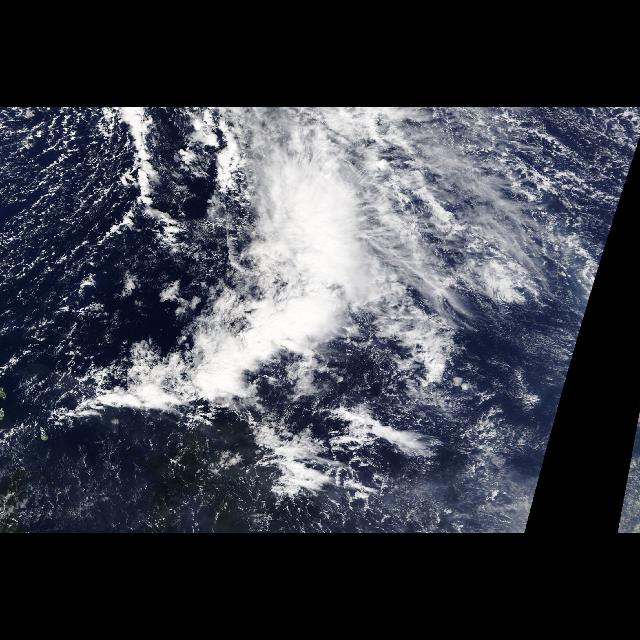Gravel: (3, 110, 148, 356), (486, 115, 630, 282)
